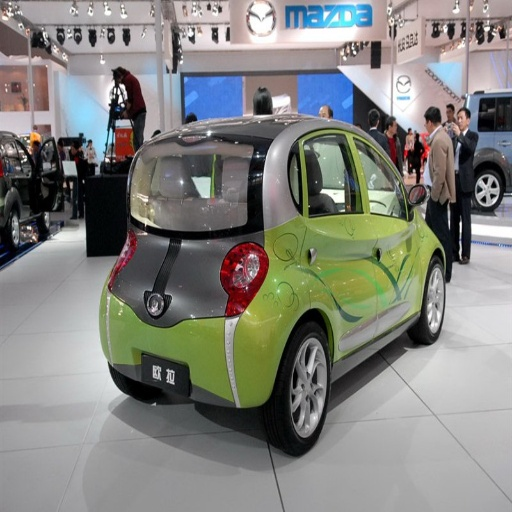back_bumper: (102, 223, 283, 402)
back_right_door: (299, 130, 376, 349)
trunk: (124, 139, 225, 328)
